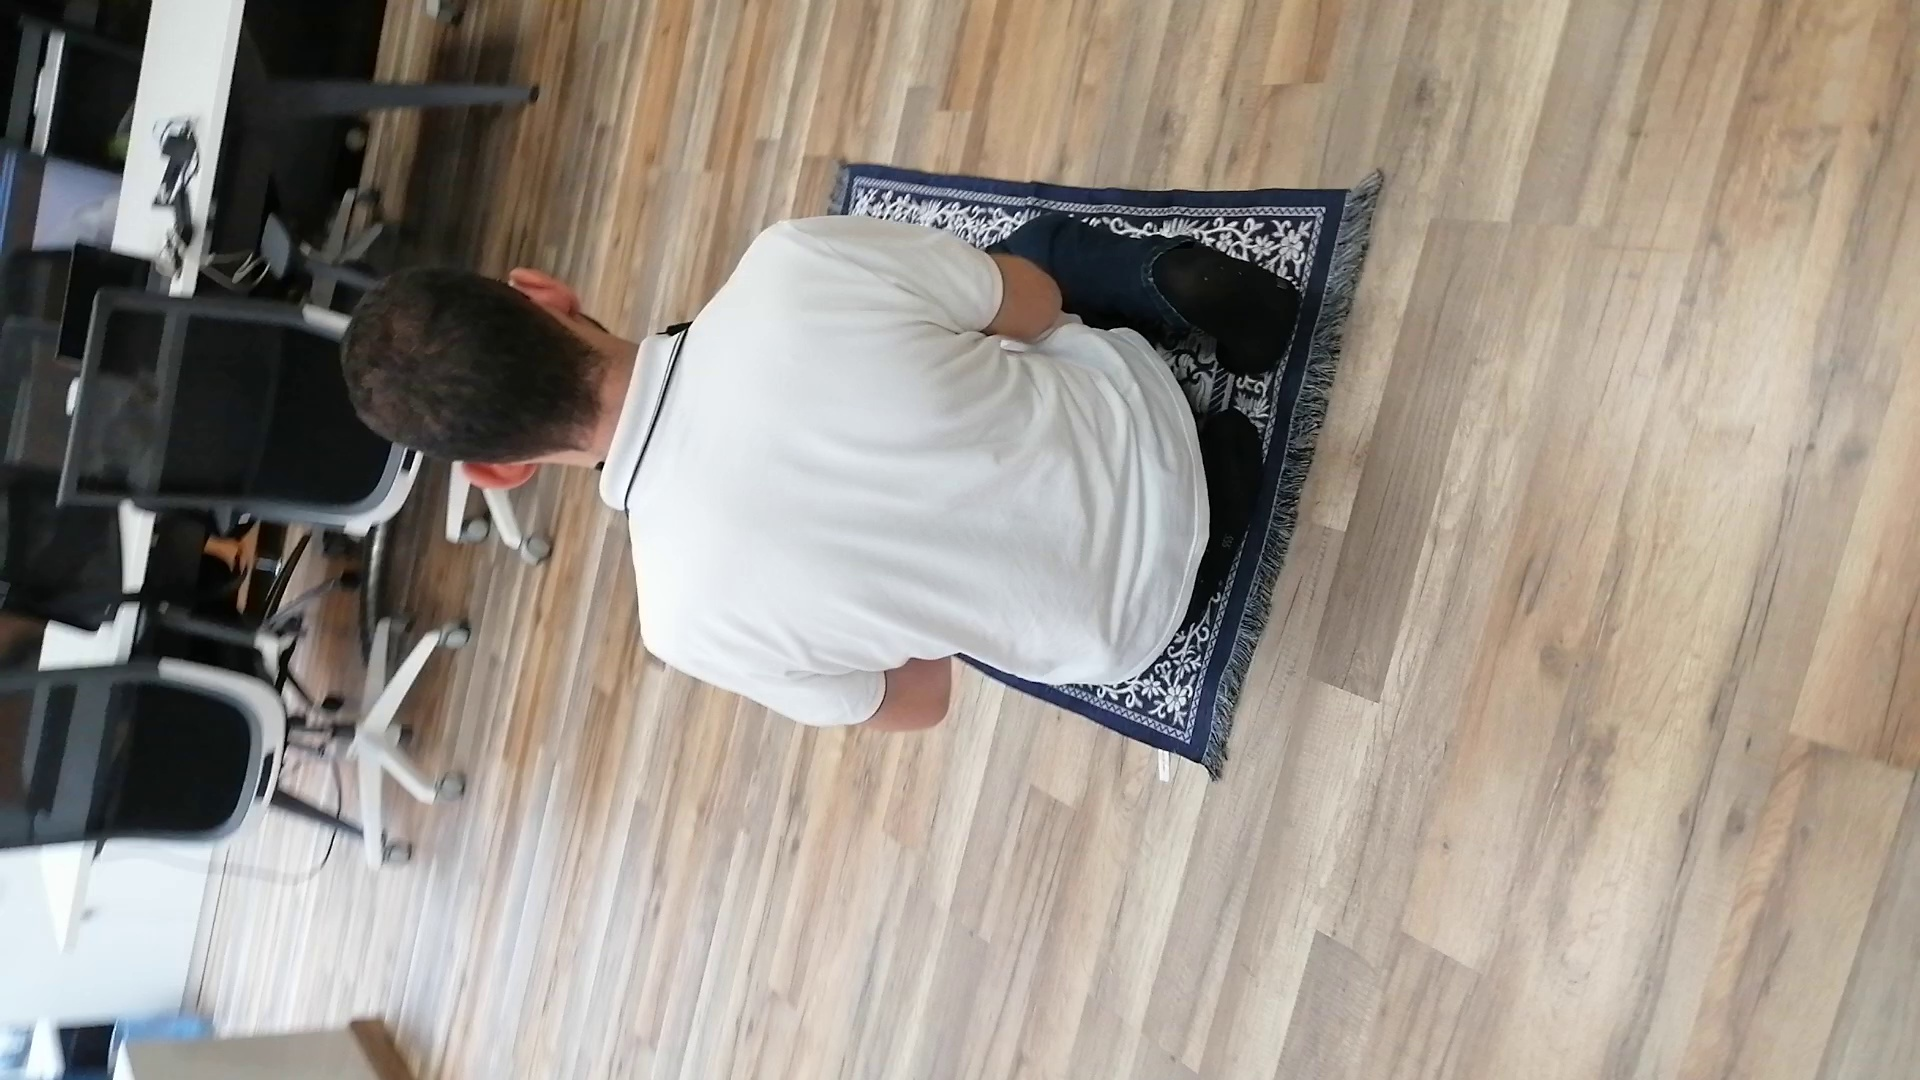sitting: (324, 198, 1305, 742)
